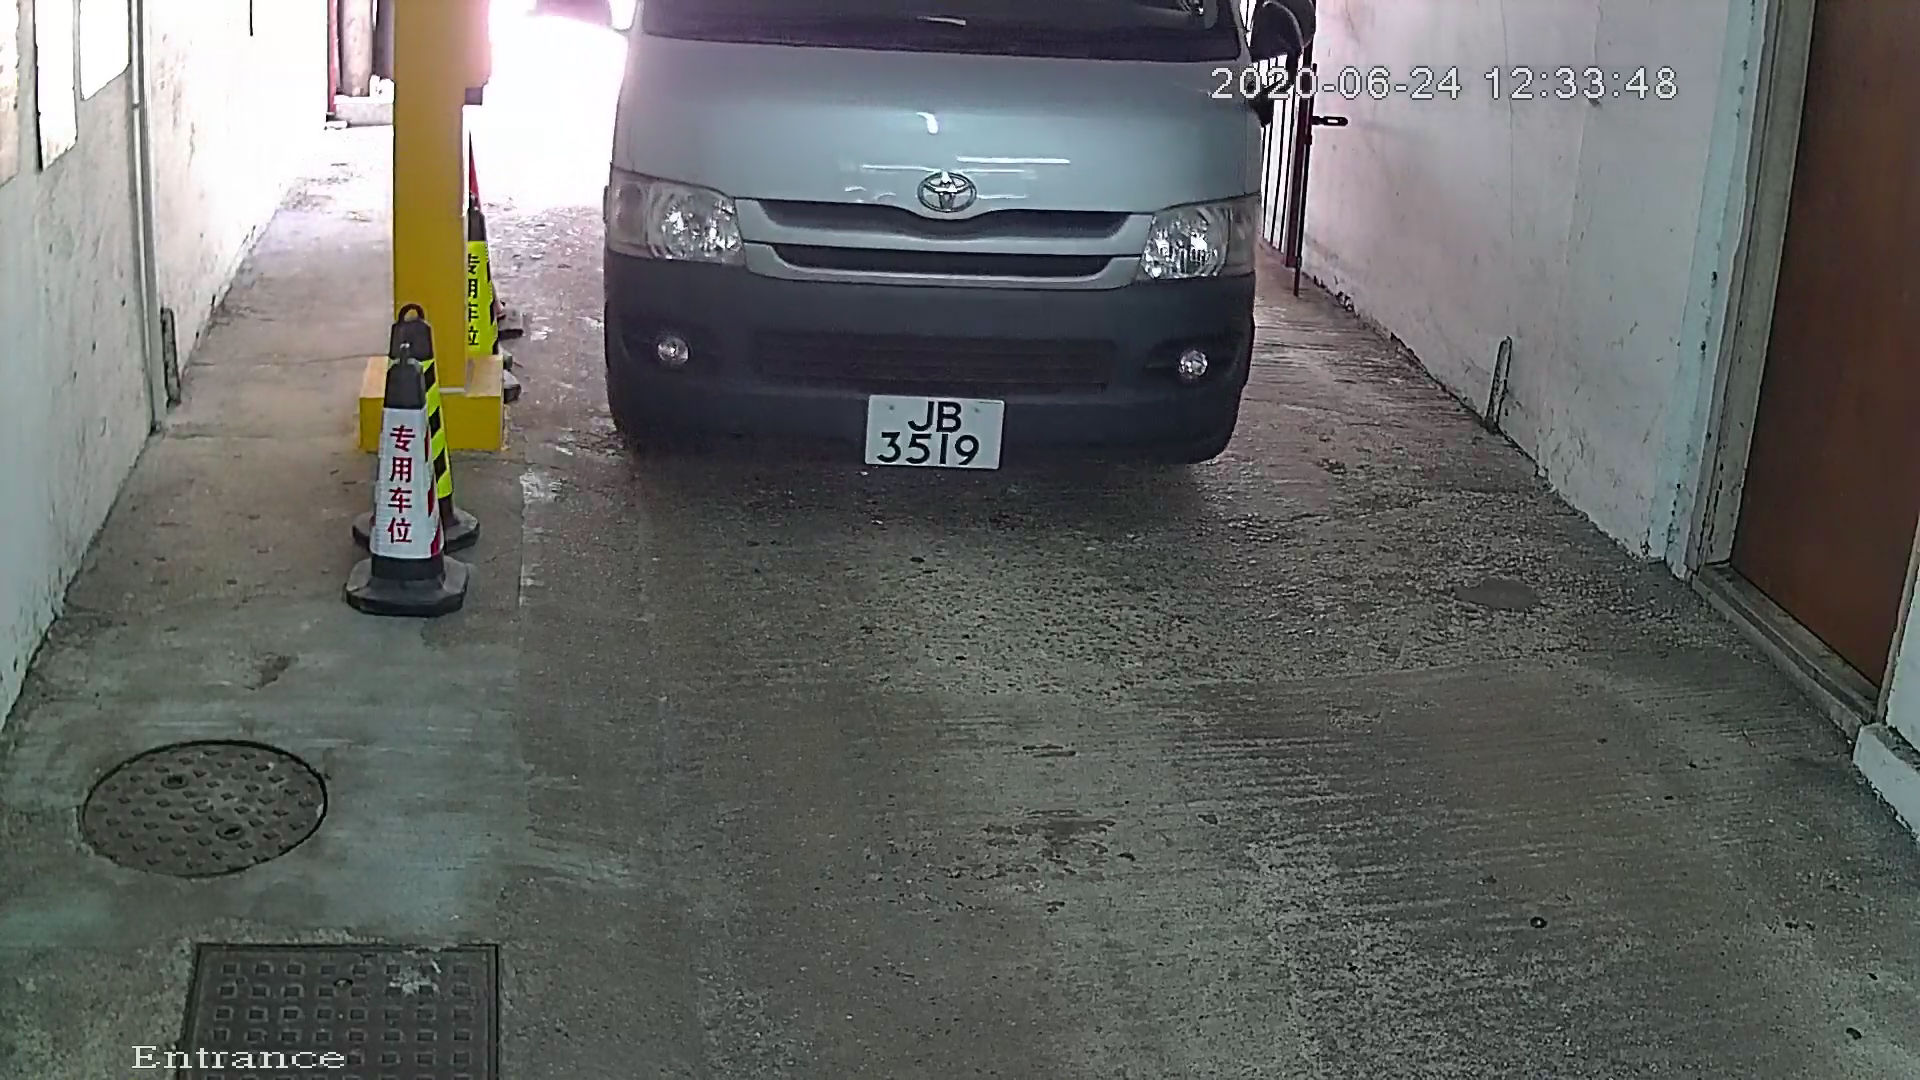Car: (530, 1, 1328, 560)
License Plate: (852, 380, 1016, 477)
